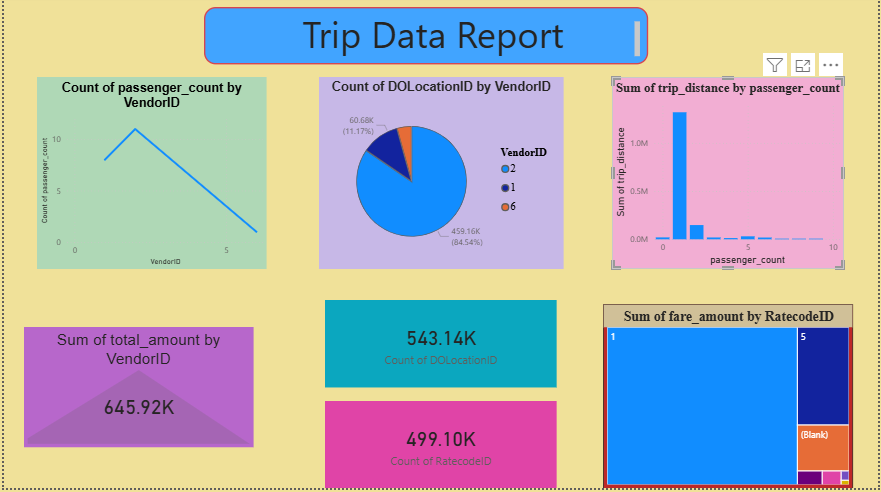

The page's visual inventory and layout, read from the dashboard file:
{"tool":"powerbi","page":{"name":"Trip_Data","canvas":[1280,720],"ordinal":0},"visuals":[{"type":"lineChart","fields":{"Category":["trip_data.VendorID"],"Y":["Count(trip_data.passenger_count)"]},"box":[48.7,119.3,336,280.5],"z":0},{"type":"pieChart","fields":{"Category":["trip_data.VendorID"],"Y":["CountNonNull(trip_data.DOLocationID)"]},"box":[460.3,119.3,357.8,280.5],"z":1},{"type":"card","fields":{"Values":["CountNonNull(trip_data.RatecodeID)"]},"box":[470.3,593,339.3,127.7],"z":2},{"type":"card","fields":{"Values":["CountNonNull(trip_data.DOLocationID)"]},"box":[470.3,445.1,339.3,127.7],"z":3},{"type":"kpi","fields":{"TrendLine":["trip_data.VendorID"],"Indicator":["Sum(trip_data.total_amount)"]},"box":[28.6,483.8,336,176.4],"z":4},{"type":"lineStackedColumnComboChart","fields":{"Y":["Sum(trip_data.trip_distance)"],"Category":["trip_data.passenger_count"]},"box":[890.3,119.3,339.3,280.5],"z":5},{"type":"treemap","fields":{"Group":["trip_data.RatecodeID"],"Values":["Sum(trip_data.fare_amount)"]},"box":[876.9,450.2,366.2,270.4],"z":6},{"type":"textbox","box":[292.3,16.8,650.1,84],"z":7}]}

Visuals, with their boxes in screenshot pixels (x1, y1, x2, y2), scaled from the page's 1280x720 canvas onto the 881x492 screenshot:
lineChart - trip_data.VendorID x Count(trip_data.passenger_count): box=[34, 82, 265, 273]
pieChart - trip_data.VendorID x CountNonNull(trip_data.DOLocationID): box=[317, 82, 563, 273]
card - CountNonNull(trip_data.RatecodeID): box=[324, 405, 557, 491]
card - CountNonNull(trip_data.DOLocationID): box=[324, 304, 557, 391]
kpi - trip_data.VendorID x Sum(trip_data.total_amount): box=[20, 331, 251, 451]
lineStackedColumnComboChart - Sum(trip_data.trip_distance) x trip_data.passenger_count: box=[613, 82, 846, 273]
treemap - trip_data.RatecodeID x Sum(trip_data.fare_amount): box=[604, 308, 856, 491]
textbox: box=[201, 11, 649, 69]
